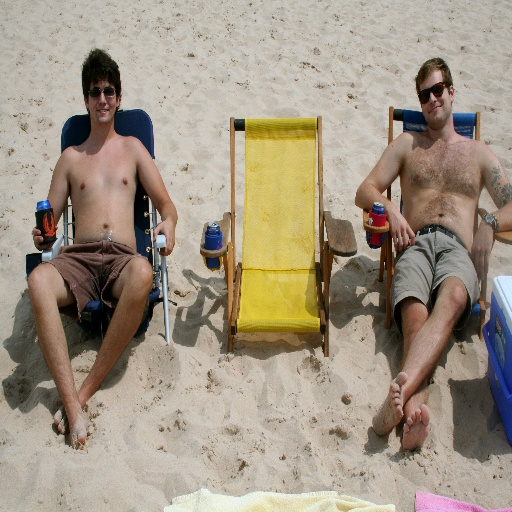hand: (386, 204, 416, 253), (470, 219, 494, 280), (152, 216, 174, 255), (30, 222, 57, 250)
